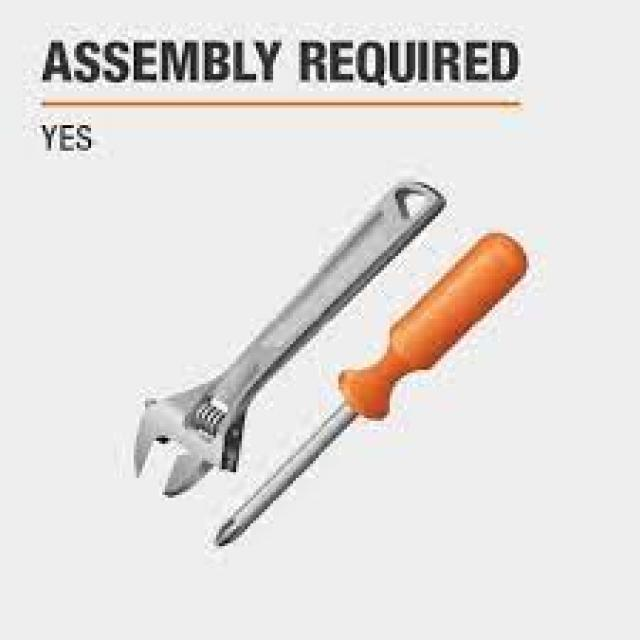screwdriver: (212, 224, 534, 550)
